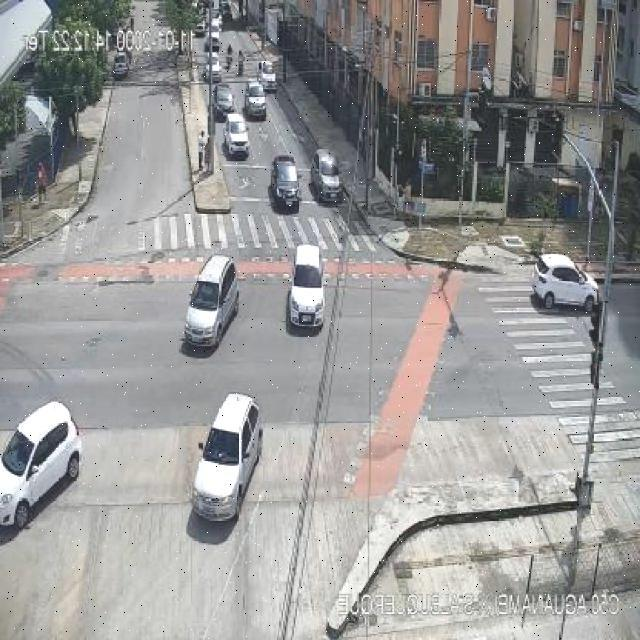Car: (0, 400, 84, 536), (186, 390, 266, 529), (178, 254, 242, 355), (528, 248, 606, 316), (288, 238, 326, 334), (268, 150, 302, 216), (311, 149, 344, 204), (222, 112, 250, 160), (244, 81, 268, 121), (256, 54, 277, 92), (211, 84, 234, 118), (202, 52, 224, 84)
Cycle: (225, 43, 236, 72)
